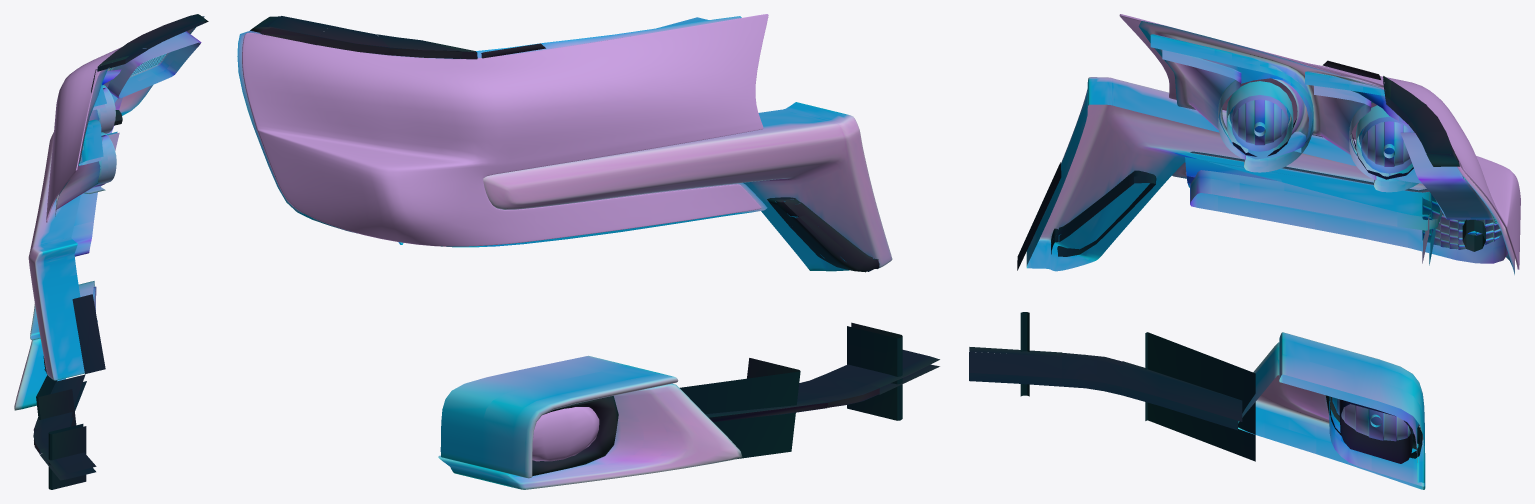
The model's file is lamp_front_R.glb.
3 views of the same model, side by side, from view 1: azimuth 30°, elevation 25°; view 2: azimuth 150°, elevation 25°; view 3: azimuth 270°, elevation 25° (orthographic). The views are drawn at different scales.
Parts seen in each view (by area): view 1: chrome_3, black_12, clearglass_27, chrome_4, chrome_0; view 2: clearglass_27, chrome_3, black_12, chrome_4; view 3: chrome_3, chrome_4, black_12, clearglass_27.
Boxes of the visible parts, bbox=[...] form: chrome_3: bbox=[28, 16, 204, 380]; black_12: bbox=[33, 14, 208, 489]; clearglass_27: bbox=[46, 47, 121, 222]; chrome_4: bbox=[14, 85, 119, 410]; chrome_0: bbox=[109, 53, 166, 75]; clearglass_27: bbox=[242, 14, 768, 461]; chrome_3: bbox=[237, 16, 892, 271]; black_12: bbox=[250, 16, 939, 476]; chrome_4: bbox=[438, 17, 742, 489]; chrome_3: bbox=[1026, 21, 1514, 427]; chrome_4: bbox=[1150, 34, 1435, 489]; black_12: bbox=[969, 60, 1485, 463]; clearglass_27: bbox=[1119, 14, 1520, 269].
Bounding box in the file's own units: 0.5705 × 0.5307 × 0.5873.
